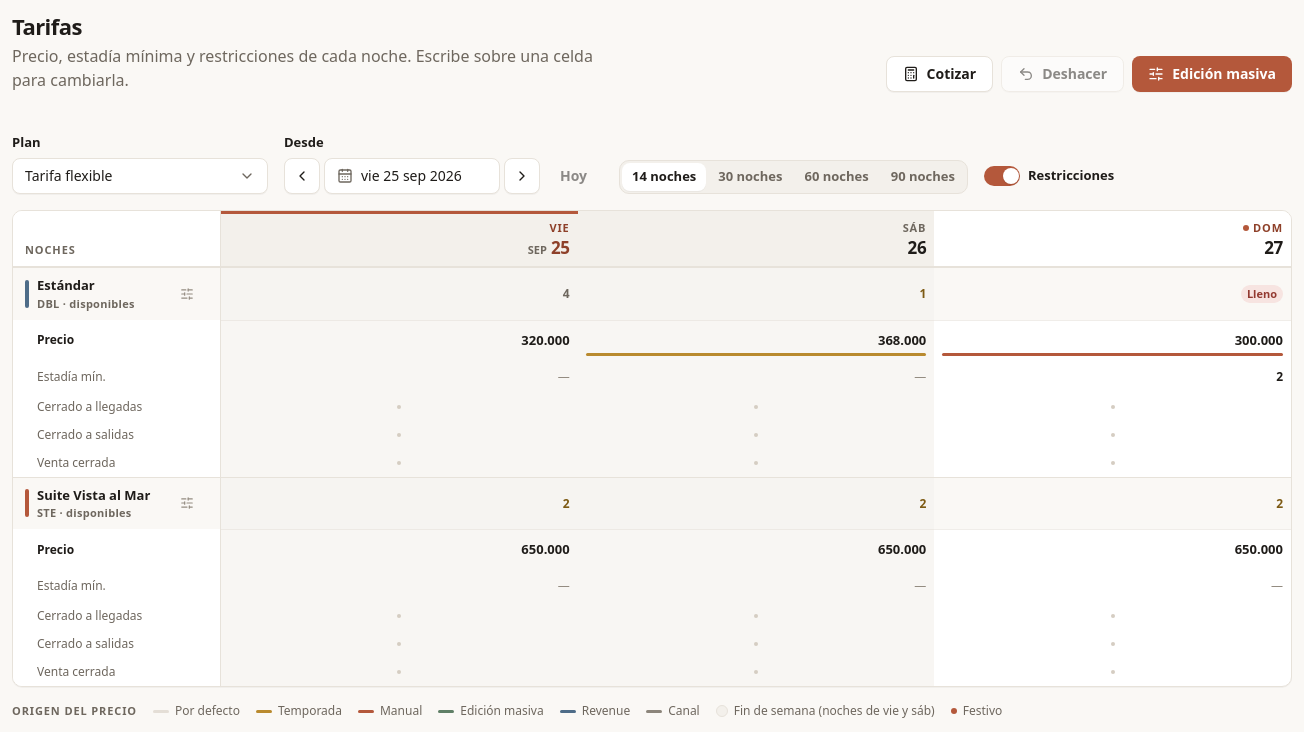
Test: rates grid › puts the price back and says why when saving fails
Click the button named "Precio de Estándar el vie 25 sep". click: (545, 340)
box: [221,320,578,360]
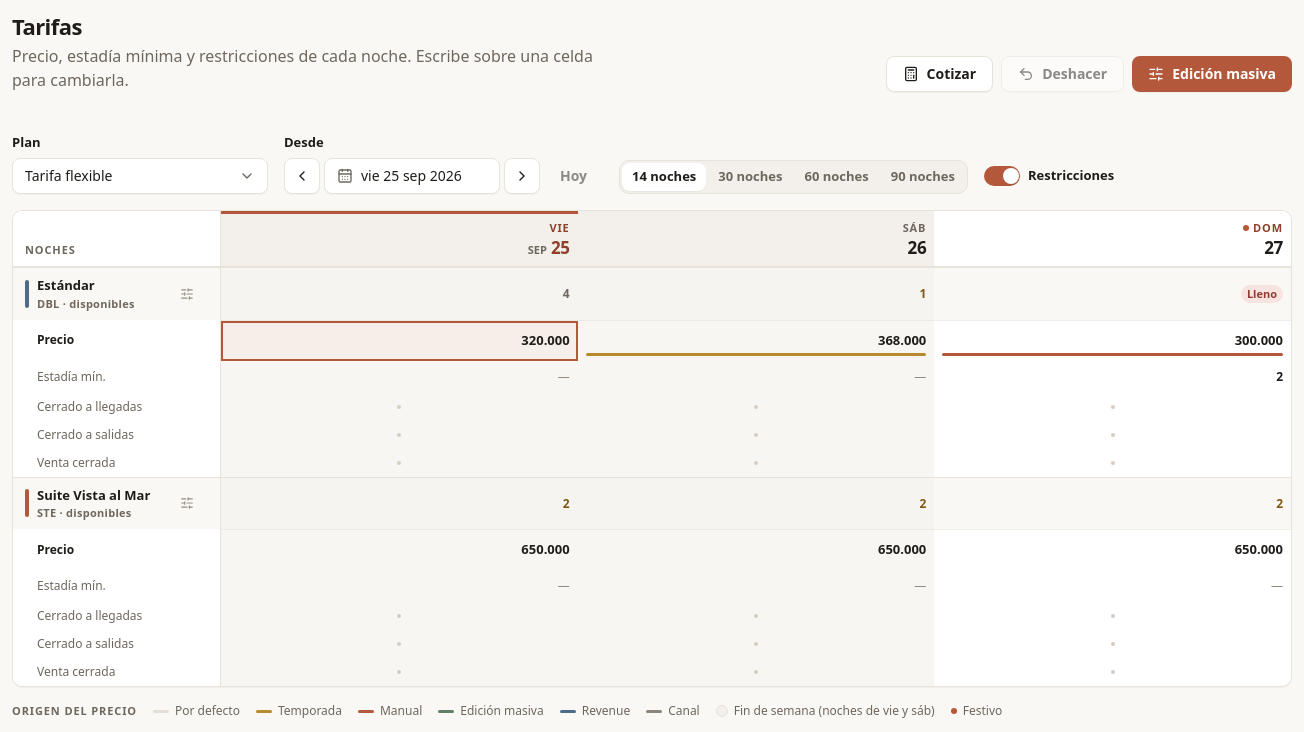
Type keys "{Enter}1{Enter}"
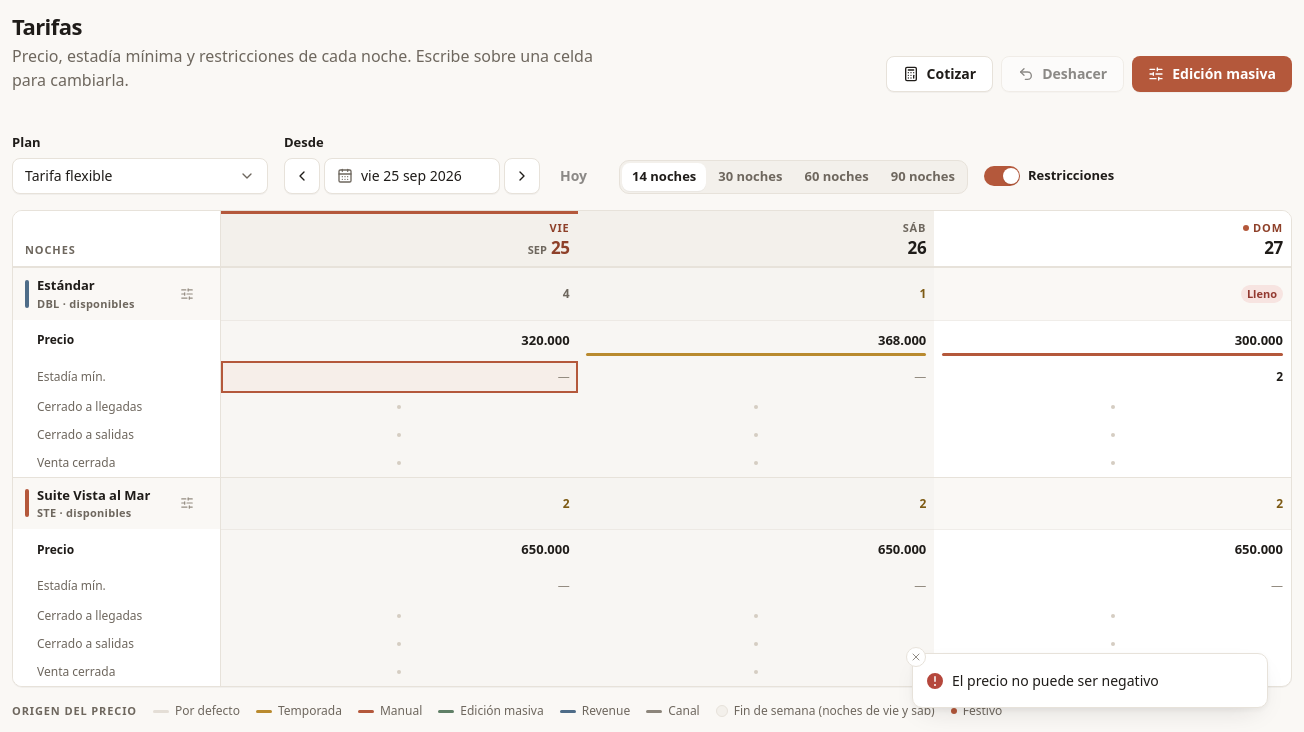
Expected: the text "El precio no puede ser negativo" is shown, [952,670,1159,691]
